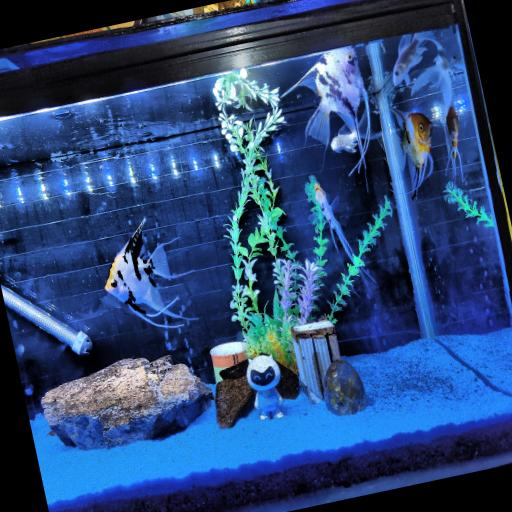Fish: (281, 47, 369, 170), (104, 219, 190, 328), (391, 108, 432, 198), (313, 183, 352, 263), (410, 55, 452, 125), (392, 31, 441, 86), (443, 106, 462, 184), (330, 125, 356, 153), (449, 55, 464, 72)
